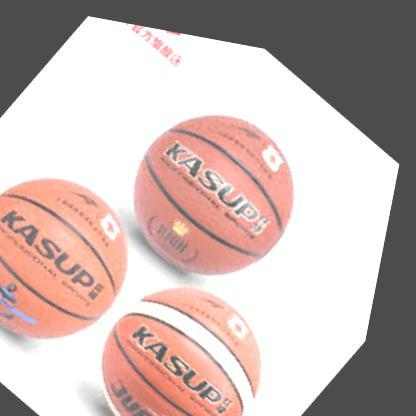basketball: (95, 61, 343, 309), (71, 236, 317, 416), (0, 136, 177, 377)
